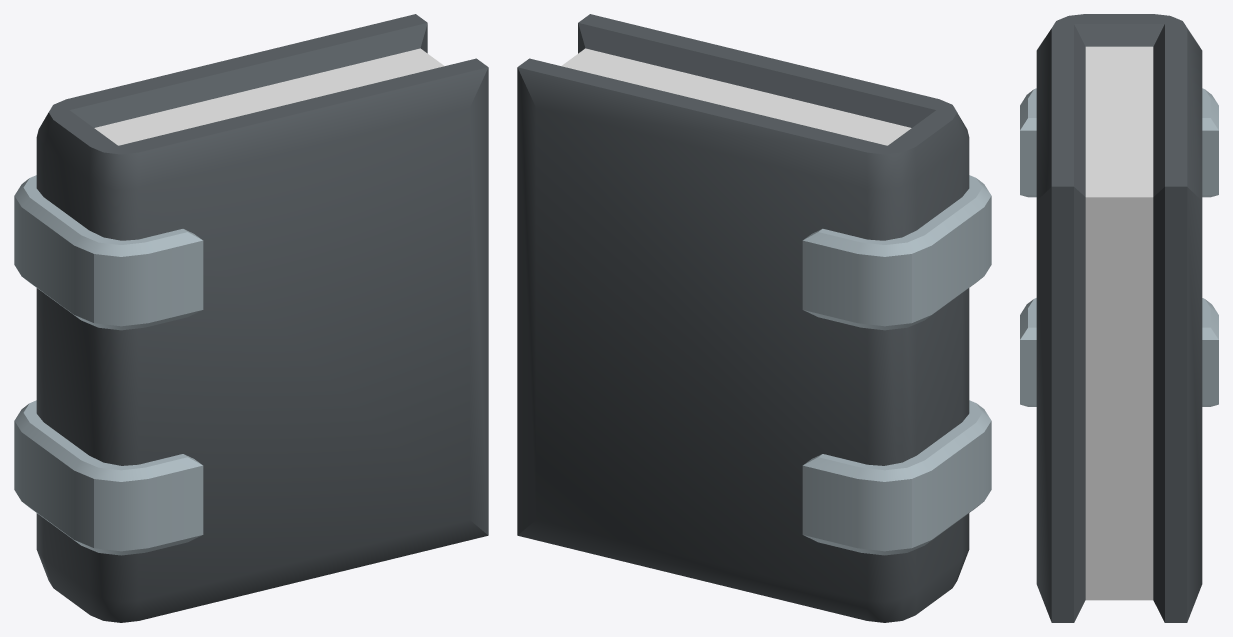
File: book2.gltf
The picture shows the model from 3 angles, left to right: view 1: azimuth 30°, elevation 25°; view 2: azimuth 150°, elevation 25°; view 3: azimuth 270°, elevation 25°; orthographic projection. The views are drawn at different scales.
Visible parts, largest first — view 1: bookA; view 2: bookA; view 3: bookA.
Boxes of the visible parts, x1,y1,x2,y2 form: bookA: [14, 14, 488, 622]; bookA: [517, 14, 991, 622]; bookA: [1020, 14, 1218, 622].
Bounding box in the file's own units: 0.3758 × 0.4161 × 0.172.
